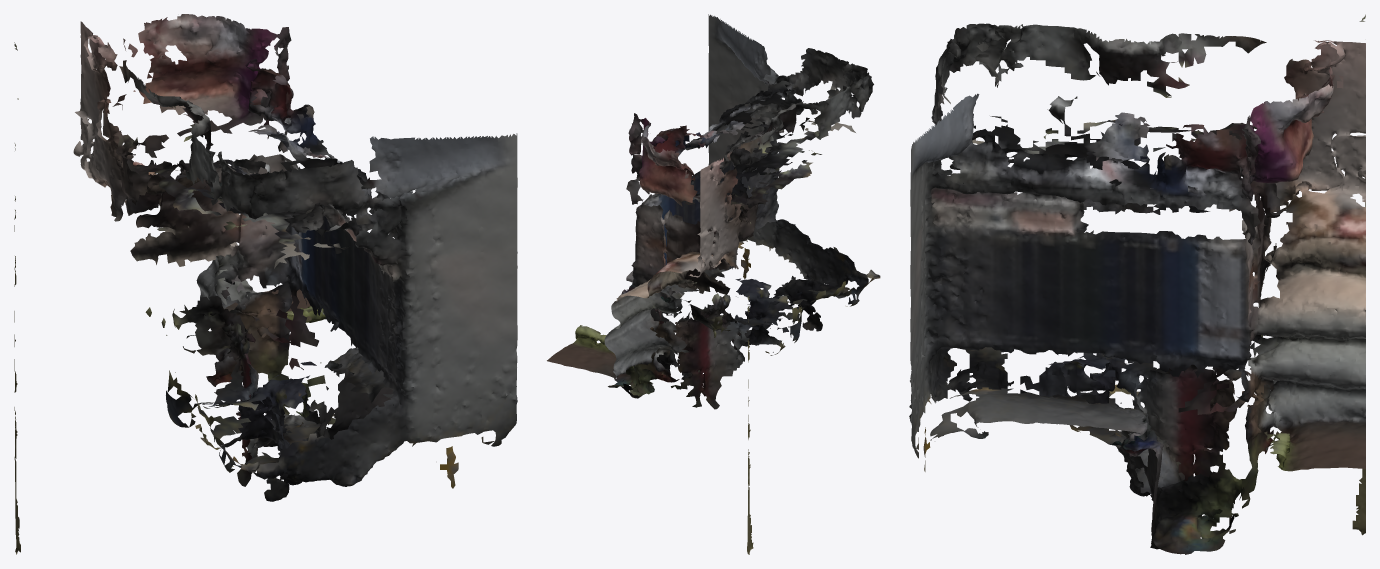
The model's file is fine.glb.
3 views of the same model, side by side, from view 1: azimuth 30°, elevation 25°; view 2: azimuth 150°, elevation 25°; view 3: azimuth 270°, elevation 25° (orthographic). The views are drawn at different scales.
Bounding box in the file's own units: 0.9183 × 1.62 × 1.28.
